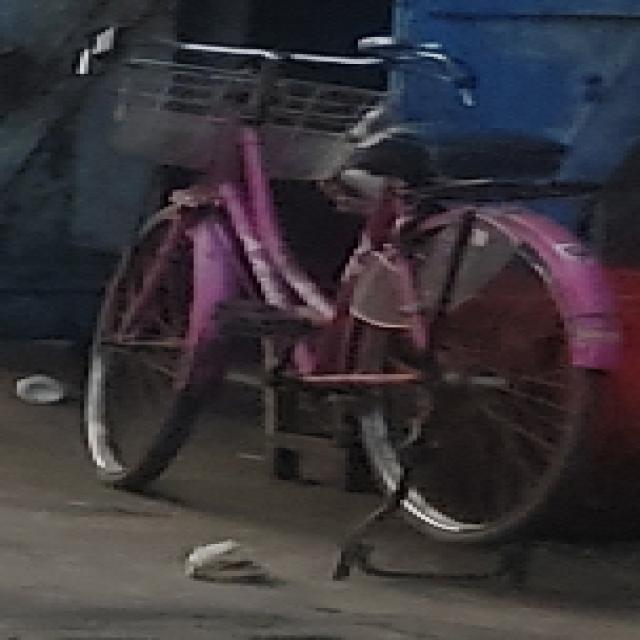bicycle: (8, 42, 640, 529)
